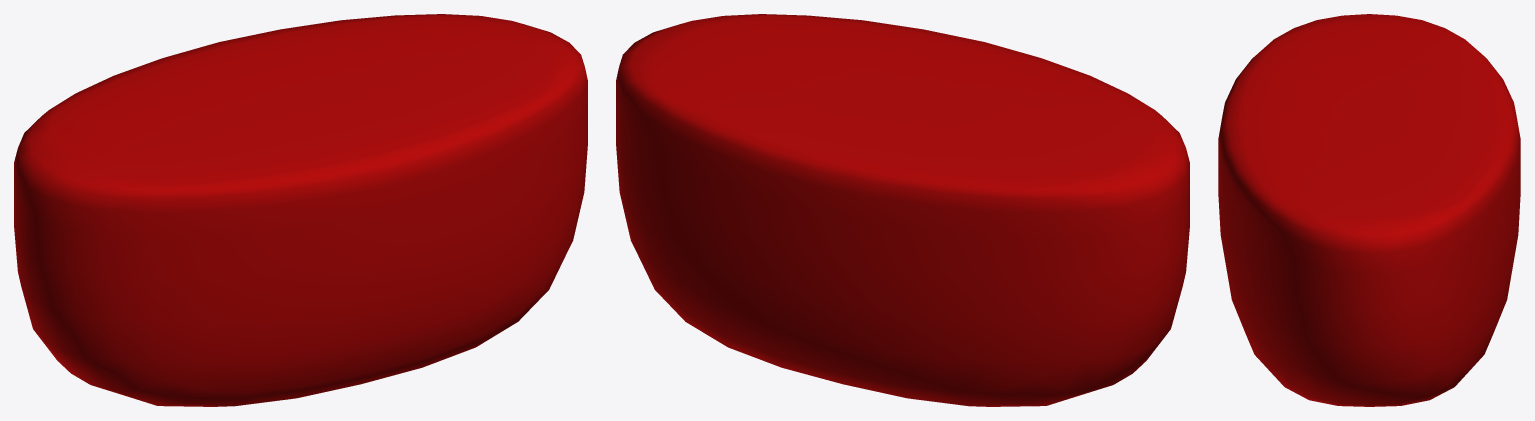
3 views of the same model, side by side, from view 1: azimuth 30°, elevation 25°; view 2: azimuth 150°, elevation 25°; view 3: azimuth 270°, elevation 25° (orthographic). The views are drawn at different scales.
Size of the model in its own units: 0.19 by 0.0857 by 0.1055.
